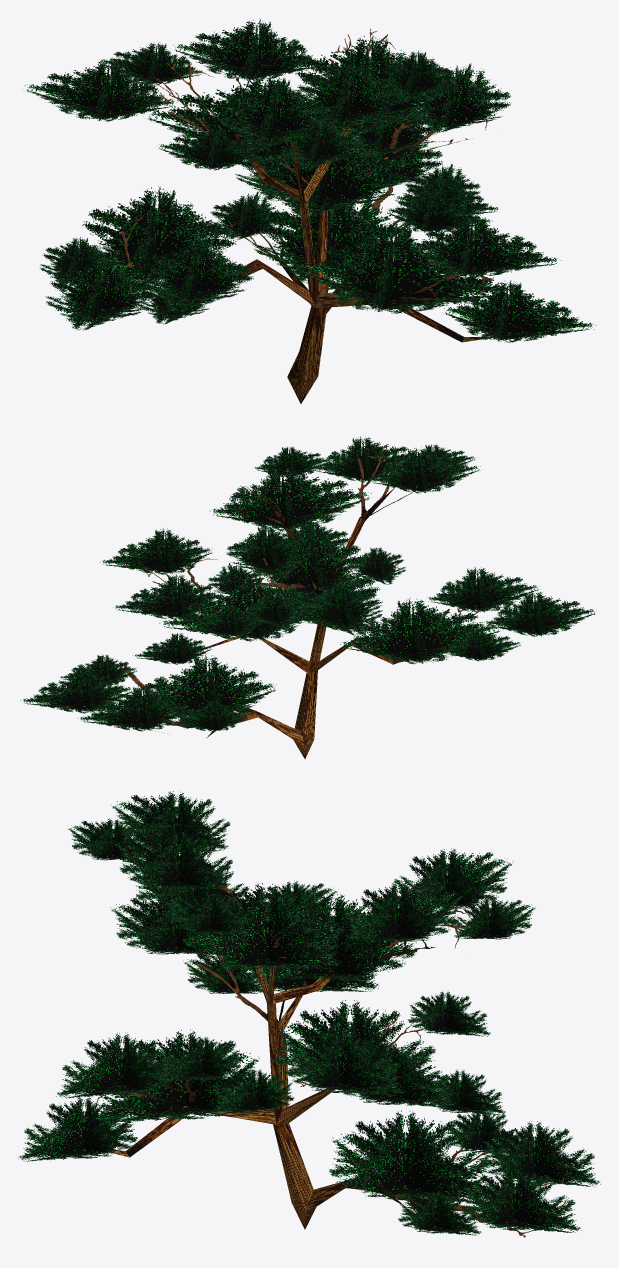
The model's file is vliegden_1.fbx.
3 views of the same model, one above another, from view 1: azimuth 30°, elevation 25°; view 2: azimuth 150°, elevation 25°; view 3: azimuth 270°, elevation 25° (orthographic). The views are drawn at different scales.
Visible parts, largest first — view 1: vliegden_1; view 2: vliegden_1; view 3: vliegden_1.
Part boxes in pixels (left/top/right/bottom): vliegden_1: left=24, top=18, right=596, bottom=403; vliegden_1: left=20, top=436, right=596, bottom=758; vliegden_1: left=18, top=791, right=600, bottom=1237.
Bounding box in the file's own units: 3299 × 2209 × 2964.
